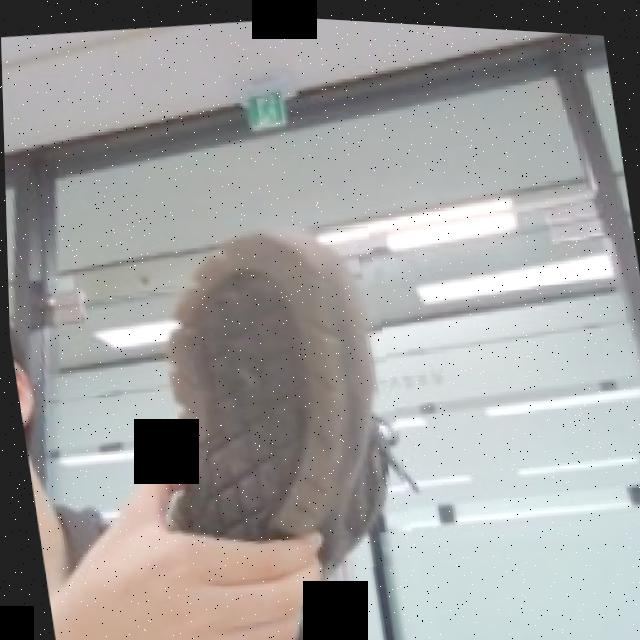shoe: (134, 207, 428, 640)
